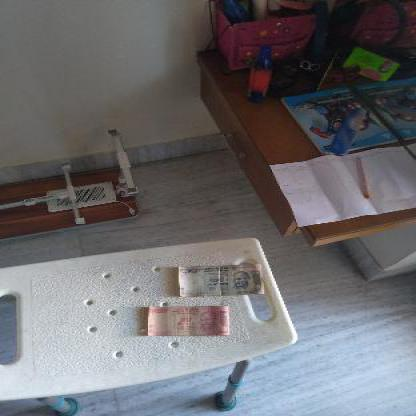Old100Front: (177, 263, 260, 295)
Old20Front: (146, 306, 229, 338)
